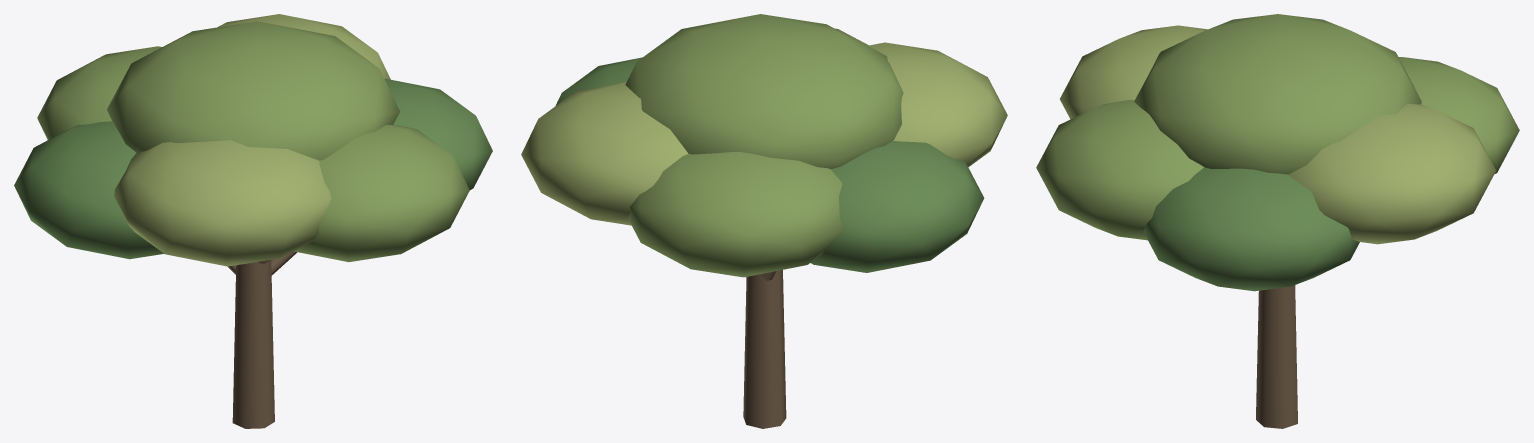
Rendered from tree-umbrella.glb.
3 renders of one model, left to right at view 1: azimuth 30°, elevation 25°; view 2: azimuth 150°, elevation 25°; view 3: azimuth 270°, elevation 25°, orthographic.
Visible parts, largest first — view 1: crown-6, crown-9, crown-8, crown-10, root-stem, crown-7, crown-11, crown-12; view 2: crown-6, crown-11, crown-10, crown-12, crown-9, root-stem, crown-7; view 3: crown-6, crown-7, crown-12, crown-8, crown-9, crown-11, root-stem.
Boxes of the visible parts, x1,y1,x2,y2 form: crown-6: (107, 21, 400, 160); crown-9: (114, 140, 331, 266); crown-8: (294, 124, 469, 262); crown-10: (14, 121, 163, 259); root-stem: (232, 260, 274, 428); crown-7: (384, 78, 492, 189); crown-11: (37, 46, 161, 139); crown-12: (218, 14, 390, 79); crown-6: (625, 14, 903, 169); crown-11: (628, 152, 843, 277); crown-10: (810, 141, 984, 272); crown-12: (521, 82, 688, 225); crown-9: (868, 42, 1007, 166); root-stem: (743, 270, 786, 428); crown-7: (555, 57, 642, 105); crown-6: (1134, 14, 1421, 174); crown-7: (1143, 167, 1359, 291); crown-12: (1288, 103, 1496, 244); crown-8: (1036, 99, 1203, 240); crown-9: (1060, 25, 1207, 119); crown-11: (1398, 57, 1519, 173); root-stem: (1256, 285, 1297, 428).
Size of the model in its own units: 9.71 by 8.2 by 9.4.
